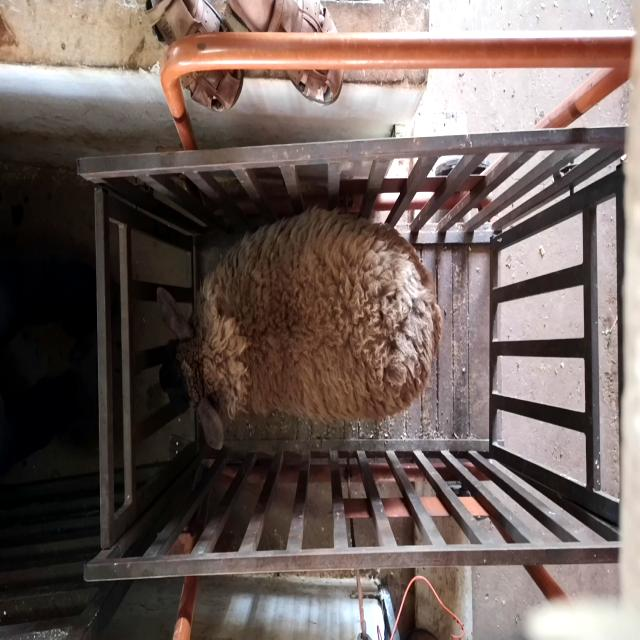sheep: (155, 208, 442, 450)
